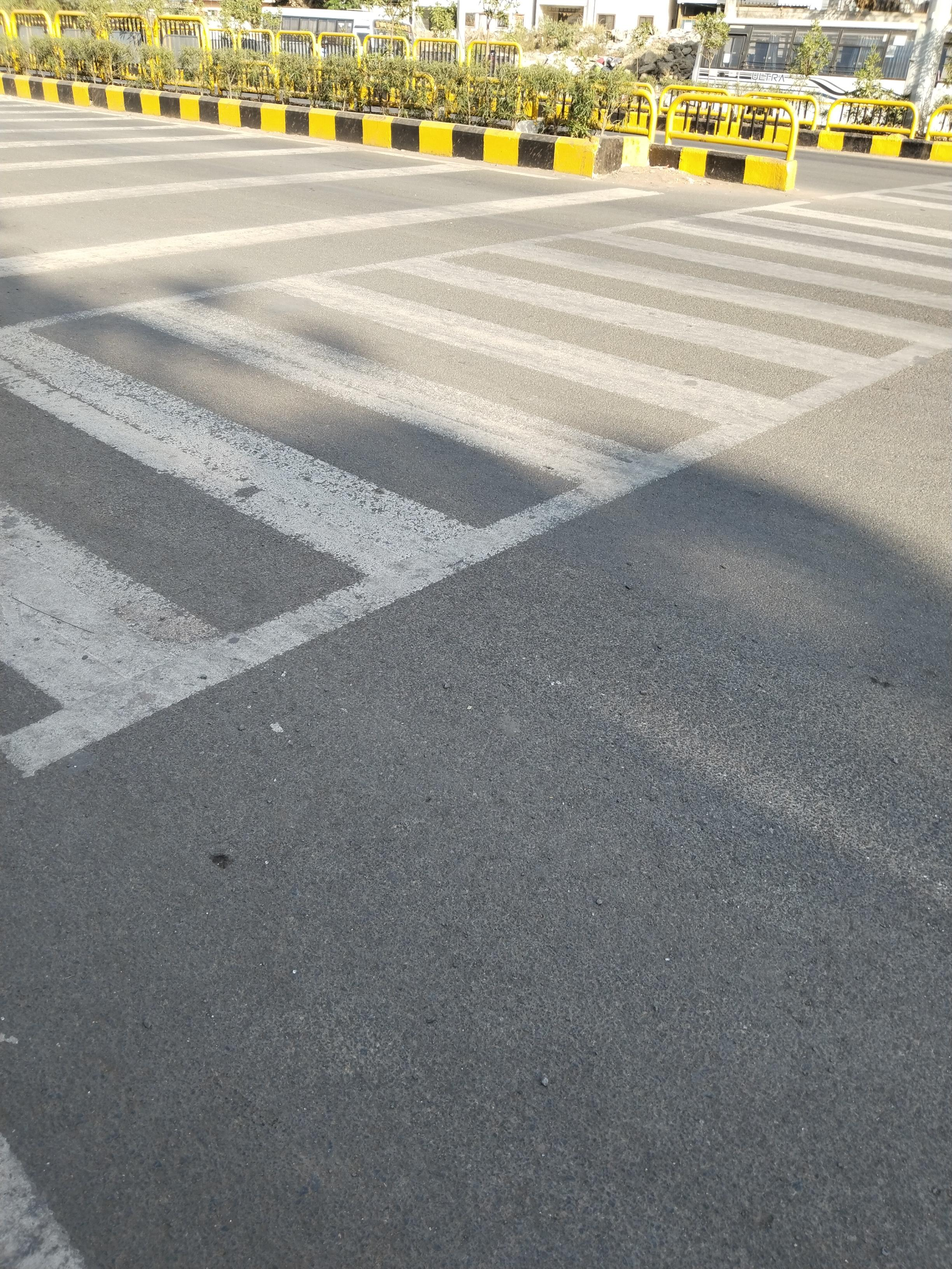crosswalk: (0, 177, 952, 766)
